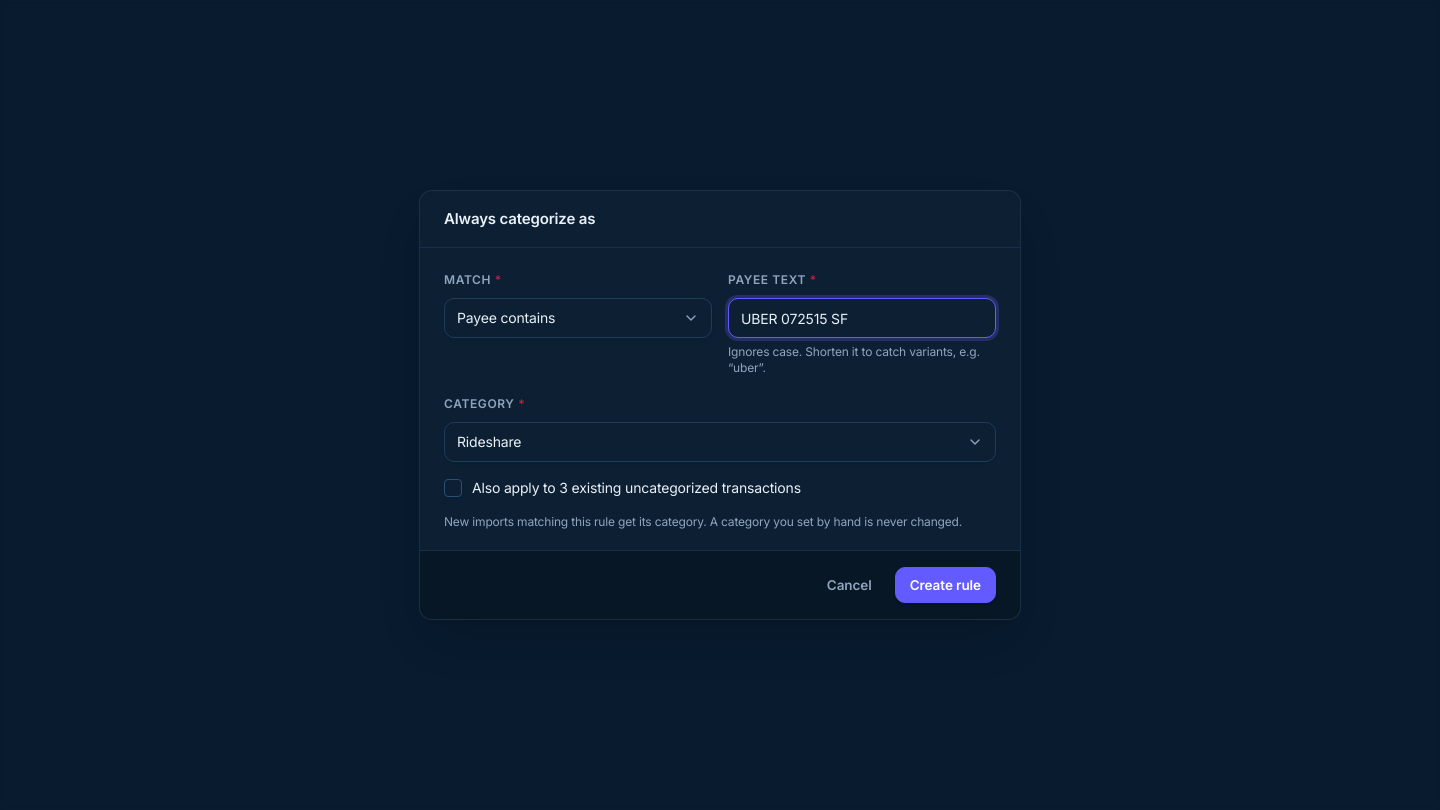
it: CategoryRuleDialog (BUD-24) › shows the field error and saves nothing when the pattern is blank
Clear the field labelled "Payee text*" at (862, 318), box [728, 298, 996, 338]
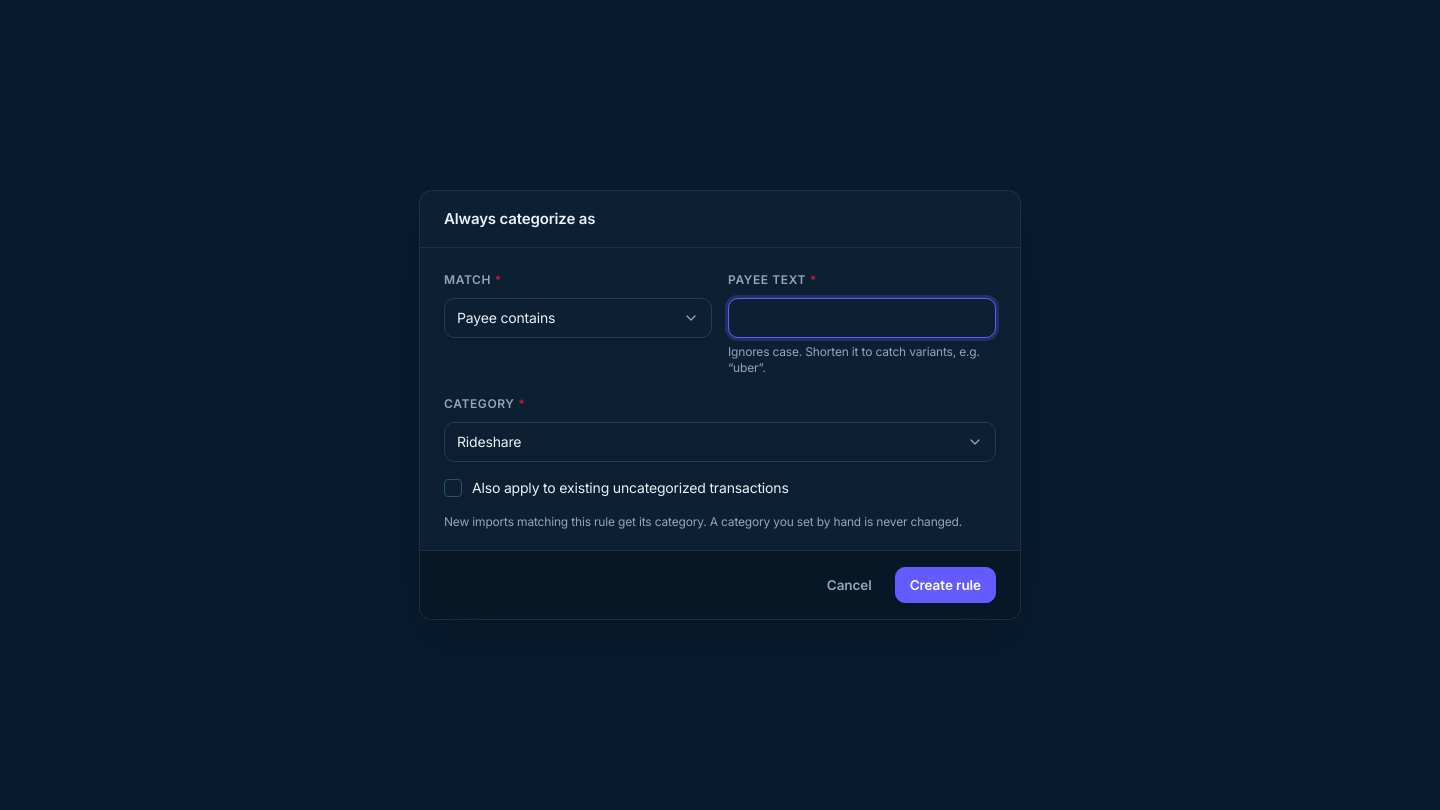
Click the button "Create rule" at (945, 585), box [895, 567, 996, 603]
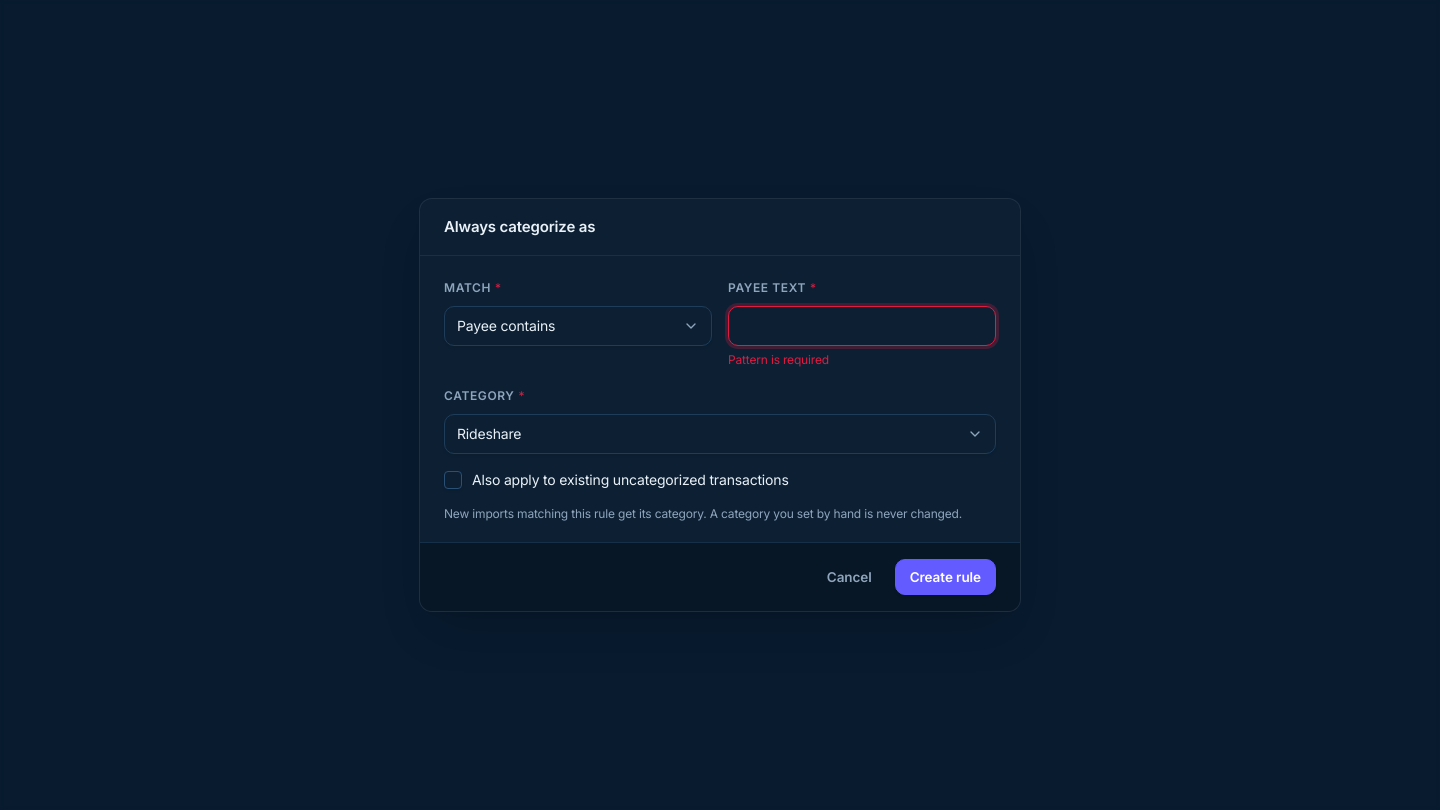
Check: the text "Pattern is required" is shown, box [728, 352, 829, 367]
